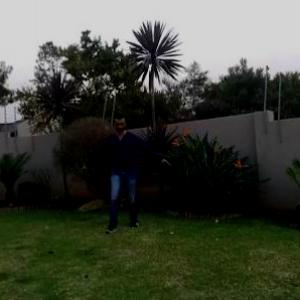land: (81, 104, 182, 232)
